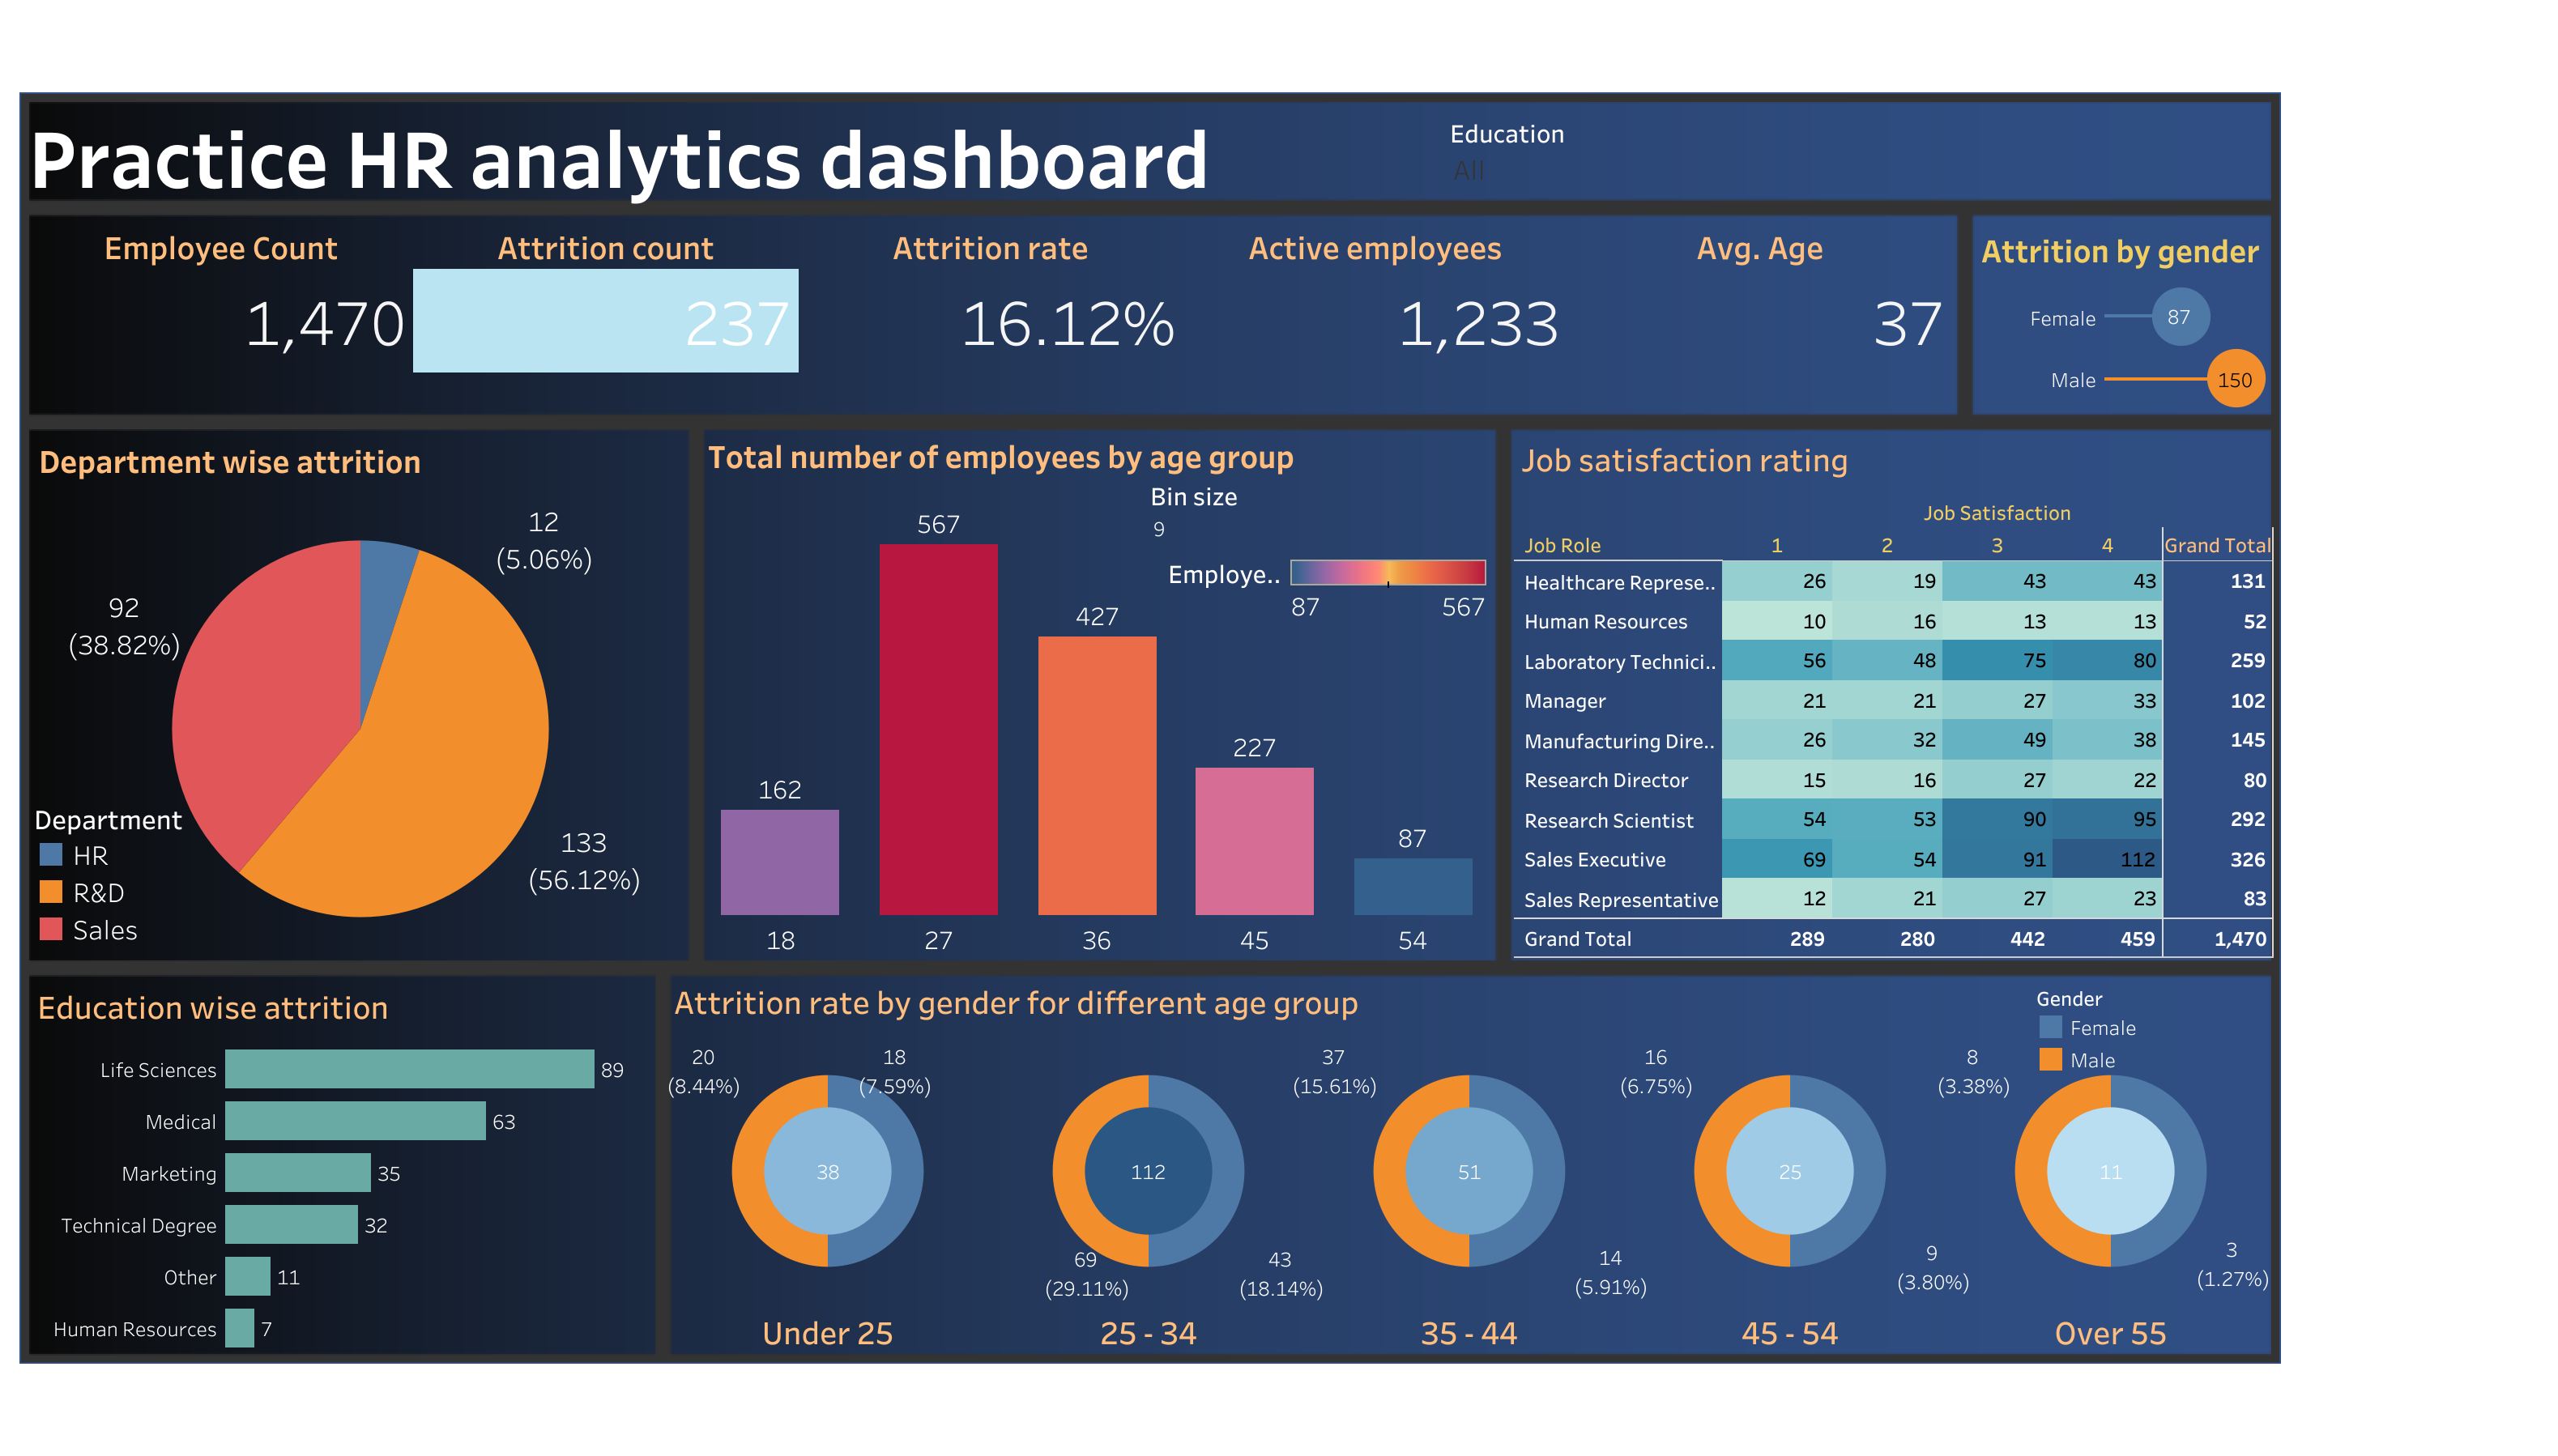

Layout of this report page (visuals, bound fields, positions):
{"tool":"tableau","page":{"name":"Practice HR analytics dashboard","canvas":[1000,1000],"units":"permille","ordinal":1},"visuals":[{"type":"image","param":"Image/HR background.png","box":[5.1,8.9,888.6,982.2]},{"type":"legend","title":"Education wise attrition","param":"[federated.06xuka515w8a0110sopwj1n1rlre].[none:Education Field:nk]","box":[893.7,8.9,101.3,24.4]},{"type":"text","box":[9.5,58.9,708.2,94.4]},{"type":"filter","title":"KPI","param":"[federated.06xuka515w8a0110sopwj1n1rlre].[none:Education:nk]","box":[566.5,77.8,77.2,52.2]},{"type":"worksheet","title":"KPI","mark":"Automatic","box":[11.4,140,751.3,143.3]},{"type":"worksheet","title":"Attrition by gender","mark":"Automatic","rows":["Gender"],"cols":["Calculation_3158852930795311104","Calculation_3158852930795311104"],"box":[771.5,150,116.5,131.1]},{"type":"worksheet","title":"Total number of employees by age group","mark":"Automatic","rows":["Employee Count"],"cols":["Age (bin)"],"box":[274.1,291.1,308.9,365.6]},{"type":"worksheet","title":"Job satisfaction rating","mark":"Square","rows":["Job Role"],"cols":["Job Satisfaction"],"box":[591.8,293.3,296.8,364.4]},{"type":"worksheet","title":"Department wise attrition","mark":"Pie","box":[12.7,294.4,256.3,365.6]},{"type":"parameter","param":"[Parameters].[Parameter 1]","box":[449.4,326.7,129.8,73.3]},{"type":"legend","title":"Total number of employees by age group","param":"[federated.06xuka515w8a0110sopwj1n1rlre].[sum:Employee Count:qk]","box":[456.3,380,127.2,53.3]},{"type":"legend","title":"Department wise attrition","param":"[federated.06xuka515w8a0110sopwj1n1rlre].[none:Department:nk]","box":[12.7,546.7,88.6,105.6]},{"type":"worksheet","title":"Attrition rate by gender for different age group","mark":"Pie","rows":["Calculation_3158852931132887045","Calculation_3158852931132887045"],"cols":["CF_age band"],"box":[260.8,665.6,626.6,263.3]},{"type":"worksheet","title":"Education wise attrition","mark":"Automatic","rows":["Education Field"],"cols":["Calculation_3158852930795311104"],"box":[12,668.9,243,260]},{"type":"legend","title":"Attrition rate by gender for different age group","param":"[federated.06xuka515w8a0110sopwj1n1rlre].[none:Gender:nk]","box":[794.9,672.2,88.6,64.4]}]}

Visuals, with their boxes on the dashboard's canvas, which has no fixed pixel size, in thousandths of its width and height (x1, y1, x2, y2). These are canvas units, not pixel positions in the 2558x1456 screenshot, which may show the page scaled, cropped or inside an application window:
image: [5,9,894,991]
"Education wise attrition" legend: [894,9,995,33]
text: [10,59,718,153]
"KPI" filter: [566,78,644,130]
"KPI" worksheet: [11,140,763,283]
"Attrition by gender" worksheet: [772,150,888,281]
"Total number of employees by age group" worksheet: [274,291,583,657]
"Job satisfaction rating" worksheet (Square marks): [592,293,889,658]
"Department wise attrition" worksheet (Pie marks): [13,294,269,660]
parameter: [449,327,579,400]
"Total number of employees by age group" legend: [456,380,584,433]
"Department wise attrition" legend: [13,547,101,652]
"Attrition rate by gender for different age group" worksheet (Pie marks): [261,666,887,929]
"Education wise attrition" worksheet: [12,669,255,929]
"Attrition rate by gender for different age group" legend: [795,672,884,737]
